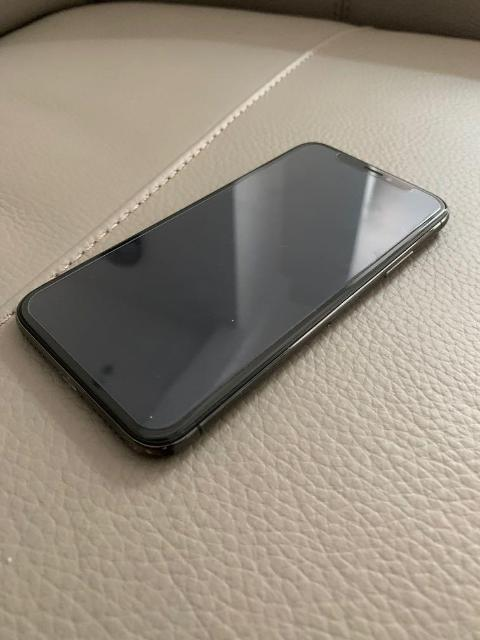phone good: (10, 128, 459, 476)
